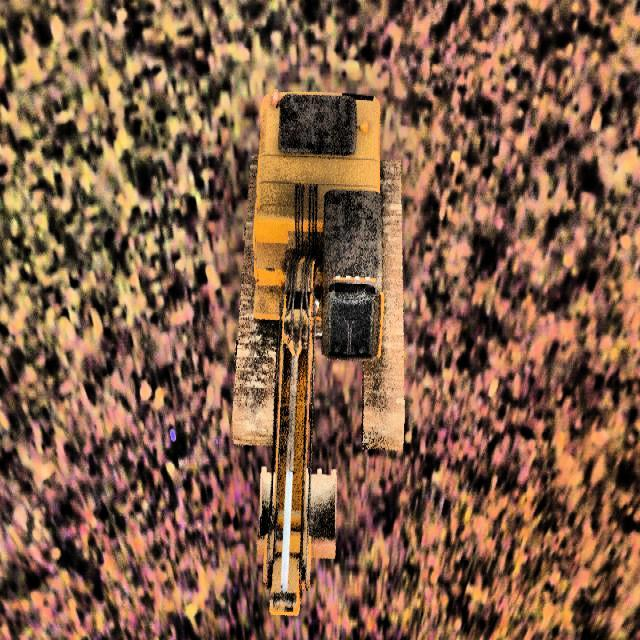excavator: (231, 88, 404, 614)
